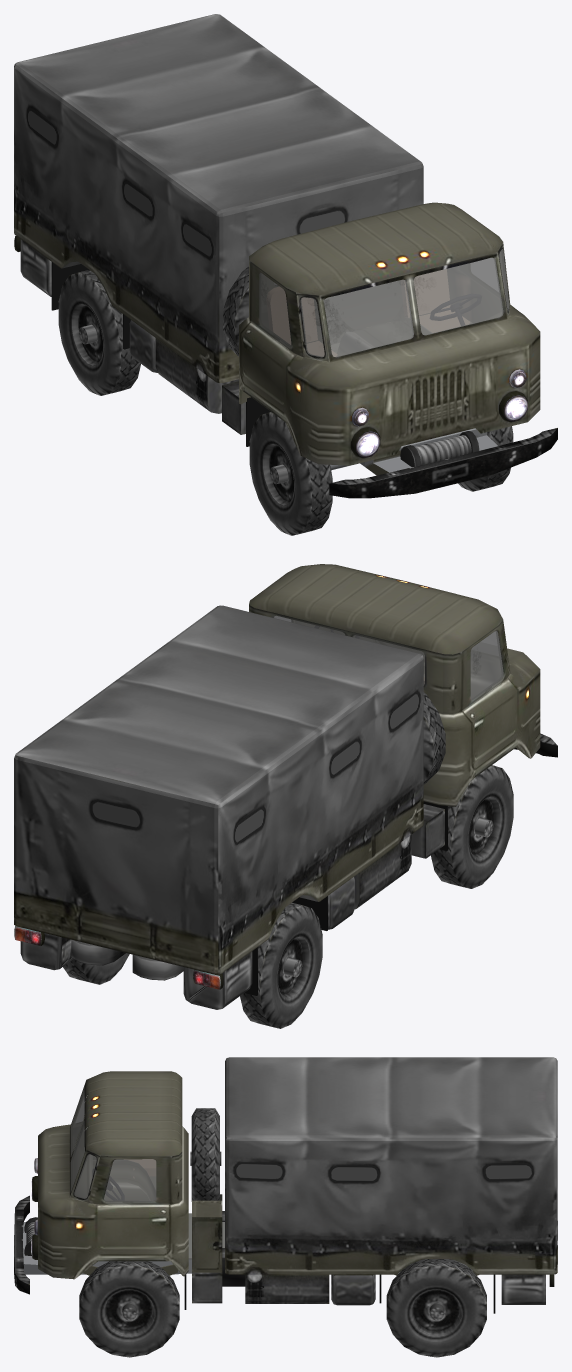
The model's file is car-6x8Ru.glb.
3 renders of one model, top to bottom at view 1: azimuth 30°, elevation 25°; view 2: azimuth 150°, elevation 25°; view 3: azimuth 270°, elevation 25°, orthographic. The views are drawn at different scales.
Visible parts, largest first — view 1: box, frame, extra, Wheel_FR, Wheel_BR, Wheel_Extra, Wheel_FL, helm; view 2: box, frame, extra, Wheel_BR, Wheel_FR, Wheel_Extra, Wheel_BL; view 3: box, frame, extra, Wheel_BL, Wheel_FL, Wheel_Extra.
Part boxes in pixels (left/top/right/bottom): box: left=14, top=14, right=423, bottom=383; frame: left=239, top=202, right=557, bottom=498; extra: left=14, top=236, right=270, bottom=446; Wheel_FR: left=249, top=412, right=332, bottom=535; Wheel_BR: left=58, top=270, right=140, bottom=395; Wheel_Extra: left=223, top=266, right=248, bottom=356; Wheel_FL: left=458, top=426, right=513, bottom=491; helm: left=430, top=294, right=481, bottom=325; box: left=14, top=605, right=423, bottom=974; frame: left=249, top=564, right=557, bottom=806; extra: left=14, top=801, right=447, bottom=1009; Wheel_BR: left=240, top=902, right=322, bottom=1028; Wheel_FR: left=431, top=765, right=513, bottom=888; Wheel_Extra: left=423, top=692, right=445, bottom=784; Wheel_BL: left=63, top=953, right=129, bottom=984; box: left=225, top=1057, right=557, bottom=1274; frame: left=14, top=1071, right=478, bottom=1294; extra: left=184, top=1194, right=557, bottom=1313; Wheel_BL: left=386, top=1259, right=486, bottom=1357; Wheel_FL: left=79, top=1261, right=179, bottom=1357; Wheel_Extra: left=190, top=1108, right=221, bottom=1201.
Size of the model in its own units: 292 by 333 by 741.
Materials: 2 (2 with a texture image).
